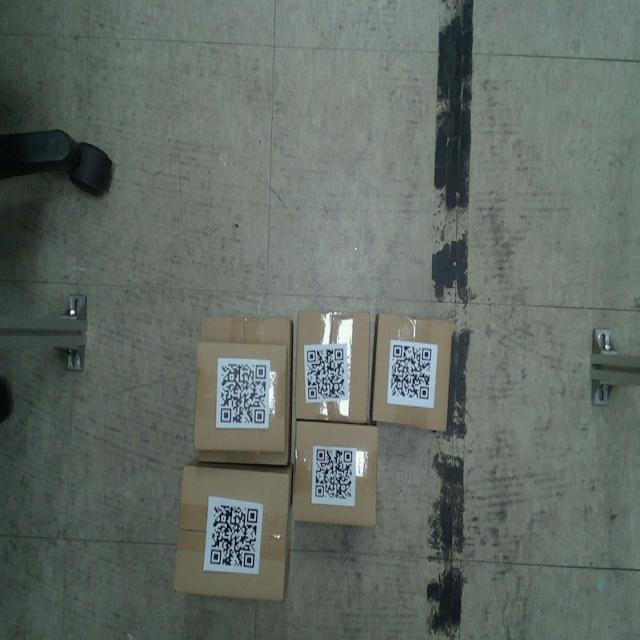box: (170, 460, 293, 604), (194, 342, 290, 453), (373, 309, 454, 434), (293, 306, 375, 424), (290, 422, 380, 528)
